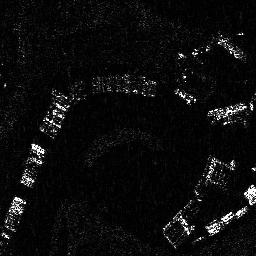ship: (22, 142, 46, 189)
